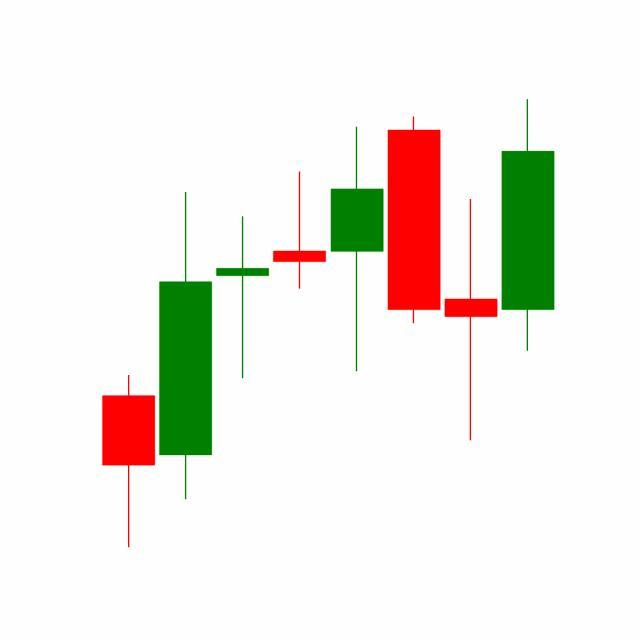Three Outside Up-Down: (328, 114, 500, 445)
